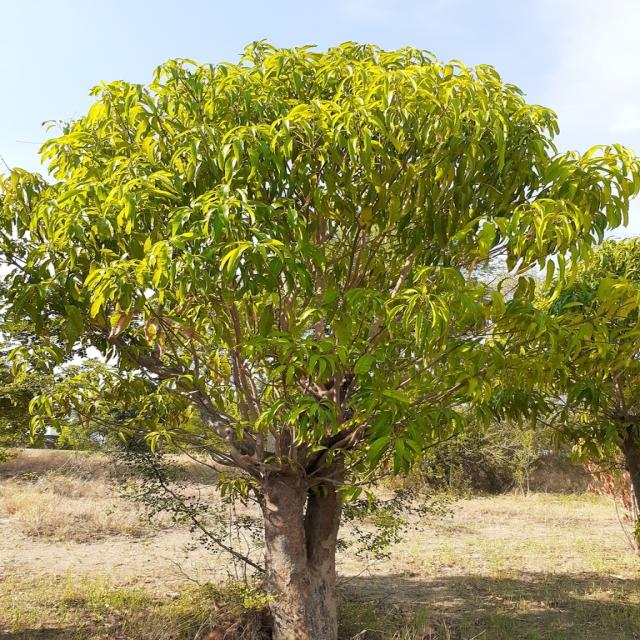Mango-Tree: (54, 81, 569, 617)
